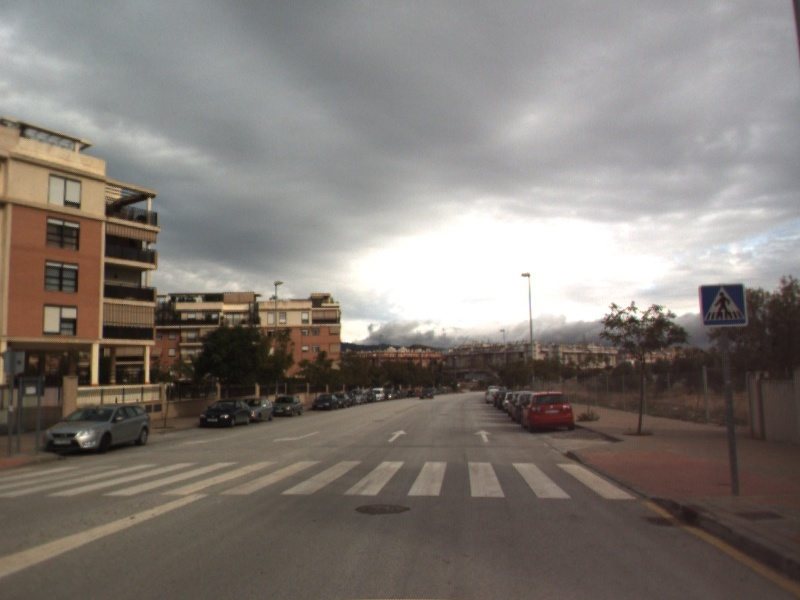STRAIGHT: (386, 428, 409, 444), (472, 428, 494, 444)
